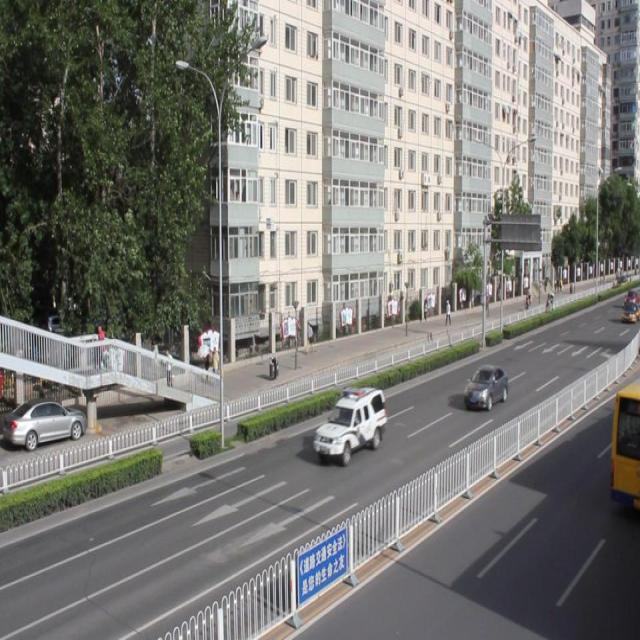car: (313, 387, 385, 459), (463, 364, 507, 409)
van: (610, 373, 640, 502)
